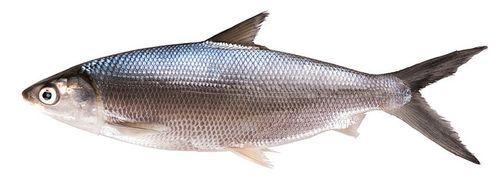Bangus: (22, 11, 489, 167)
